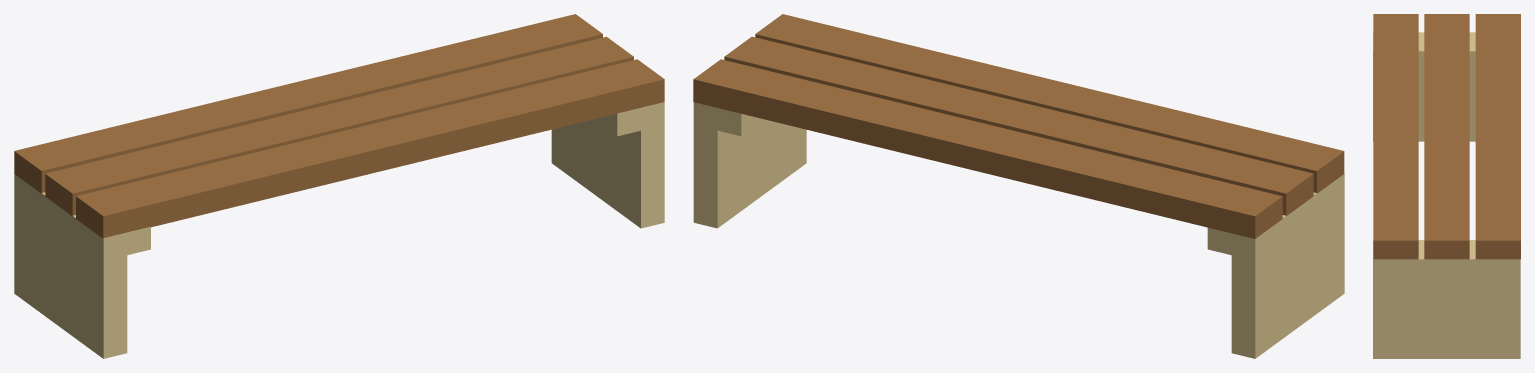
Rendered from Bench.fbx.
3 renders of one model, left to right at view 1: azimuth 30°, elevation 25°; view 2: azimuth 150°, elevation 25°; view 3: azimuth 270°, elevation 25°, orthographic. The views are drawn at different scales.
Parts seen in each view (by area): view 1: Cube.006, Cube, Cube.005, Cube.007, Cube.008; view 2: Cube, Cube.005, Cube.006, Cube.007, Cube.008; view 3: Cube.008, Cube.005, Cube.006, Cube, Cube.007.
Boxes of the visible parts, box(x1,y1,x2,y2) form: Cube.006: box(76, 59, 664, 238); Cube: box(14, 14, 602, 193); Cube.005: box(45, 36, 633, 216); Cube.007: box(14, 174, 150, 358); Cube.008: box(551, 102, 664, 228); Cube: box(693, 59, 1282, 238); Cube.005: box(724, 36, 1313, 215); Cube.006: box(755, 14, 1344, 193); Cube.007: box(1207, 173, 1344, 358); Cube.008: box(693, 102, 806, 228); Cube.008: box(1373, 240, 1520, 358); Cube.005: box(1424, 14, 1469, 259); Cube.006: box(1373, 14, 1418, 259); Cube: box(1475, 14, 1520, 259); Cube.007: box(1373, 32, 1475, 141).
Size of the model in its own units: 80.93 by 19.75 by 22.3.
